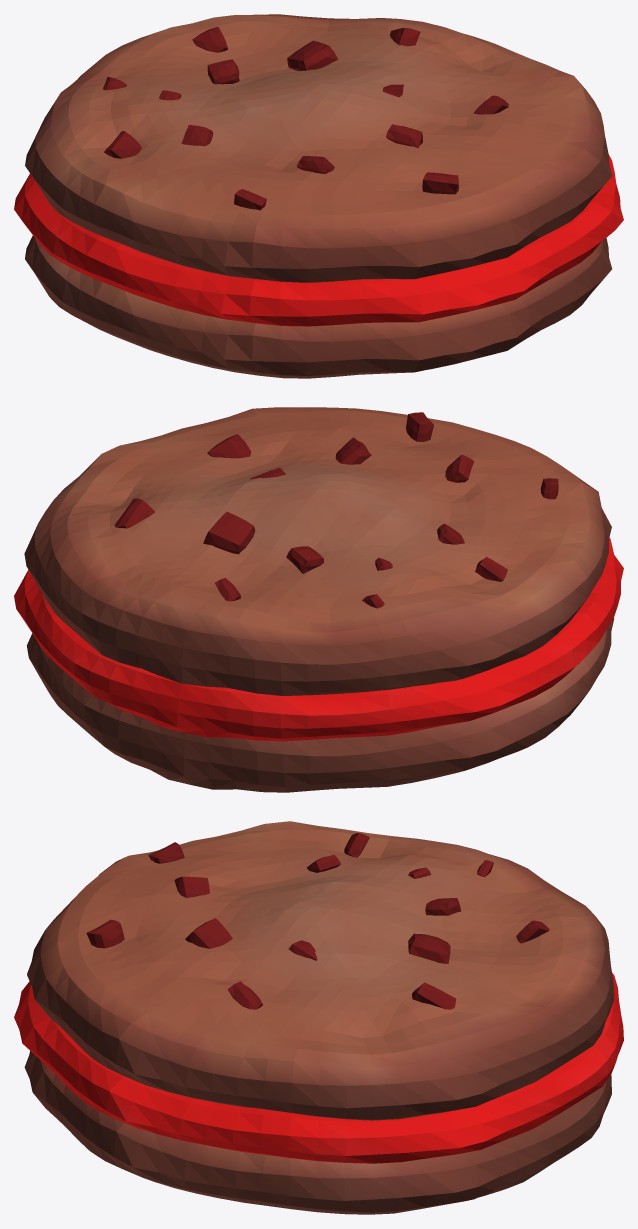
File: cookie_filled.glb
The picture shows the model from 3 angles, top to bottom: view 1: azimuth 30°, elevation 25°; view 2: azimuth 150°, elevation 25°; view 3: azimuth 270°, elevation 25°; orthographic projection.
Visible parts, largest first — view 1: Cylinder, Cylinder 1, Cylinder 2, Box 1 (×5), Box (×4); view 2: Cylinder, Cylinder 2, Cylinder 1, Box 1 (×4), Box (×4); view 3: Cylinder, Cylinder 2, Cylinder 1, Box 1 (×4), Box (×3).
Part boxes in pixels (x1,y1,x2,y2): Cylinder: [25, 14, 612, 282]; Cylinder 1: [25, 235, 612, 378]; Cylinder 2: [14, 154, 623, 326]; Box 1 (×5): [181, 40, 422, 174]; Box (×4): [104, 27, 458, 210]; Cylinder: [24, 407, 611, 695]; Cylinder 2: [14, 538, 623, 741]; Cylinder 1: [26, 618, 614, 792]; Box 1 (×4): [203, 437, 474, 573]; Box (×4): [114, 412, 507, 581]; Cylinder: [27, 821, 614, 1120]; Cylinder 2: [14, 972, 623, 1163]; Cylinder 1: [24, 1051, 611, 1214]; Box 1 (×4): [174, 876, 461, 963]; Box (×3): [86, 919, 456, 1009].
Size of the model in its own units: 1.02 by 0.3762 by 1.02.
